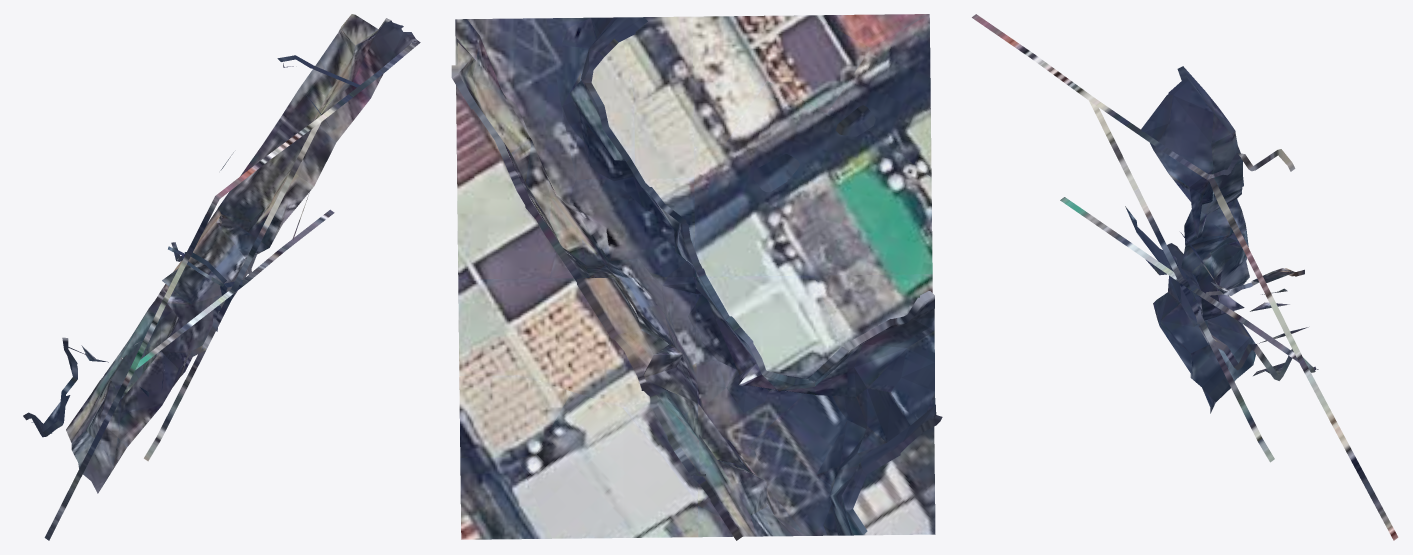
3 views of the same model, side by side, from view 1: azimuth 30°, elevation 25°; view 2: azimuth 150°, elevation 25°; view 3: azimuth 270°, elevation 25° (orthographic). The views are drawn at different scales.
Bounding box in the file's own units: 39.61 × 37.36 × 32.56.
1 material, 1 textured.
